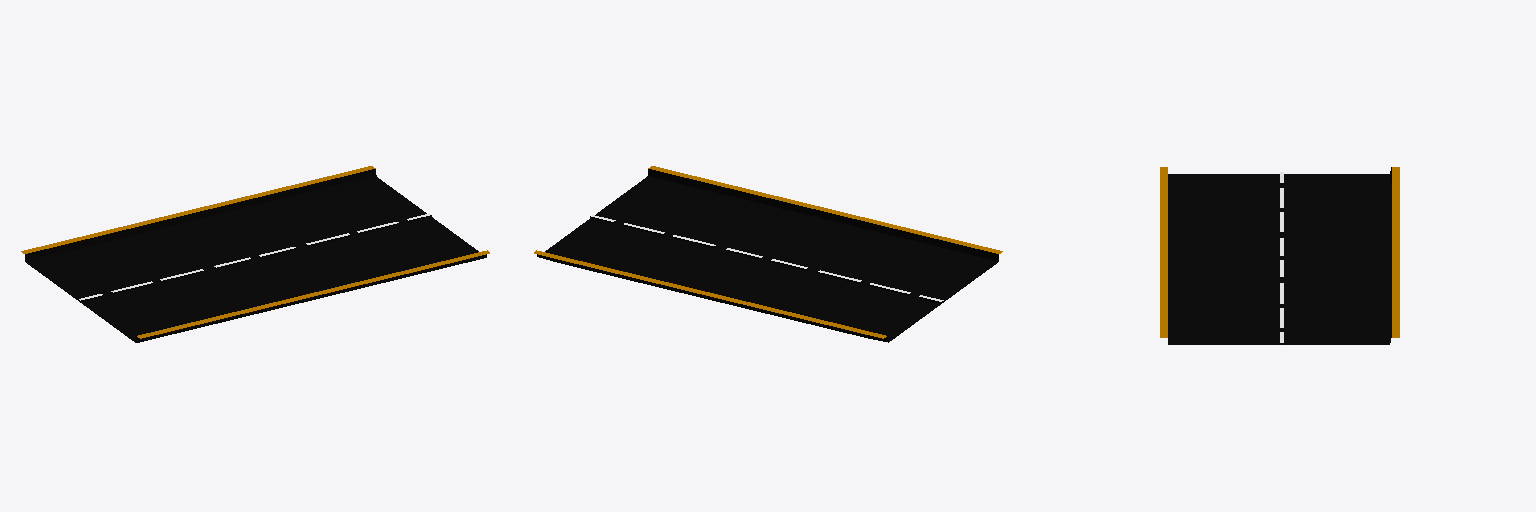
Rendered from road1.obj.
3 views of the same model, side by side, from view 1: azimuth 30°, elevation 25°; view 2: azimuth 150°, elevation 25°; view 3: azimuth 270°, elevation 25° (orthographic).
Visible parts, largest first — view 1: Plane; view 2: Plane; view 3: Plane.
Boxes of the visible parts, x1,y1,x2,y2 form: Plane: [21, 166, 489, 342]; Plane: [534, 166, 1002, 342]; Plane: [1160, 167, 1399, 344].
Size of the model in its own units: 10 by 0.2 by 5.9.